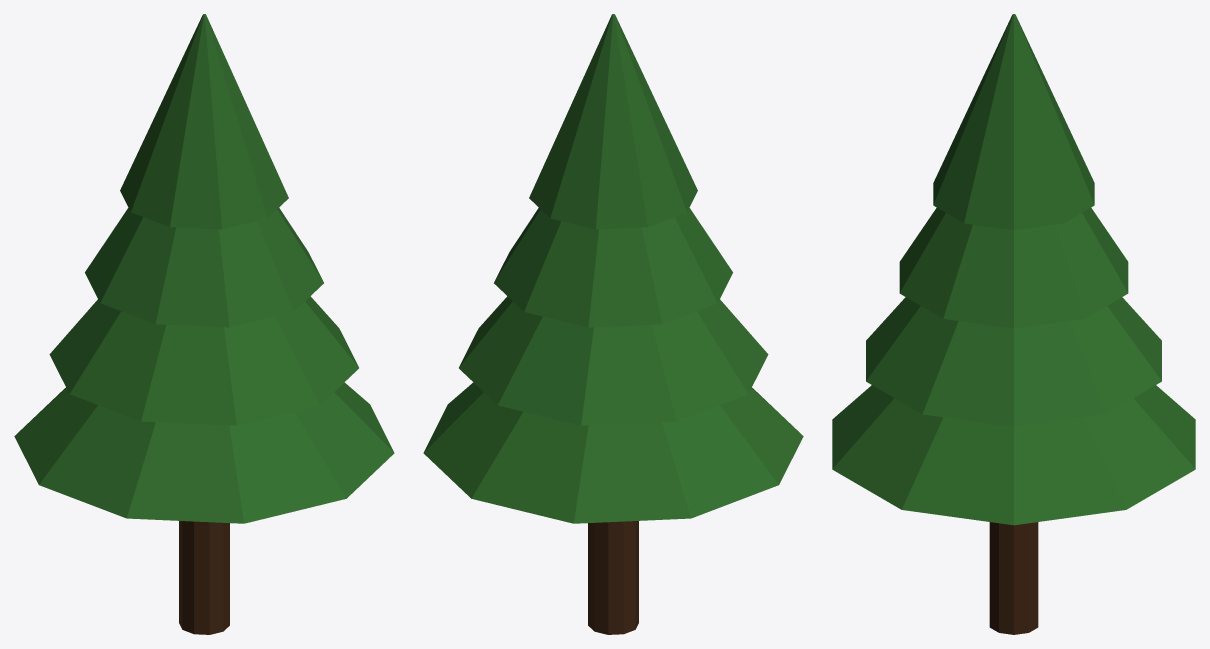
The model's file is Tree_Pine.obj.
3 renders of one model, left to right at view 1: azimuth 30°, elevation 25°; view 2: azimuth 150°, elevation 25°; view 3: azimuth 270°, elevation 25°, orthographic.
Parts seen in each view (by area): view 1: PineTier, Trunk; view 2: PineTier, Trunk; view 3: PineTier, Trunk.
Part boxes in pixels (<box>): PineTier: <box>14,14,394,523</box>; Trunk: <box>179,521,229,634</box>; PineTier: <box>423,14,803,523</box>; Trunk: <box>588,521,638,634</box>; PineTier: <box>832,14,1195,525</box>; Trunk: <box>989,522,1038,634</box>.
Bounding box in the file's own units: 2.7 × 4.75 × 2.57.
